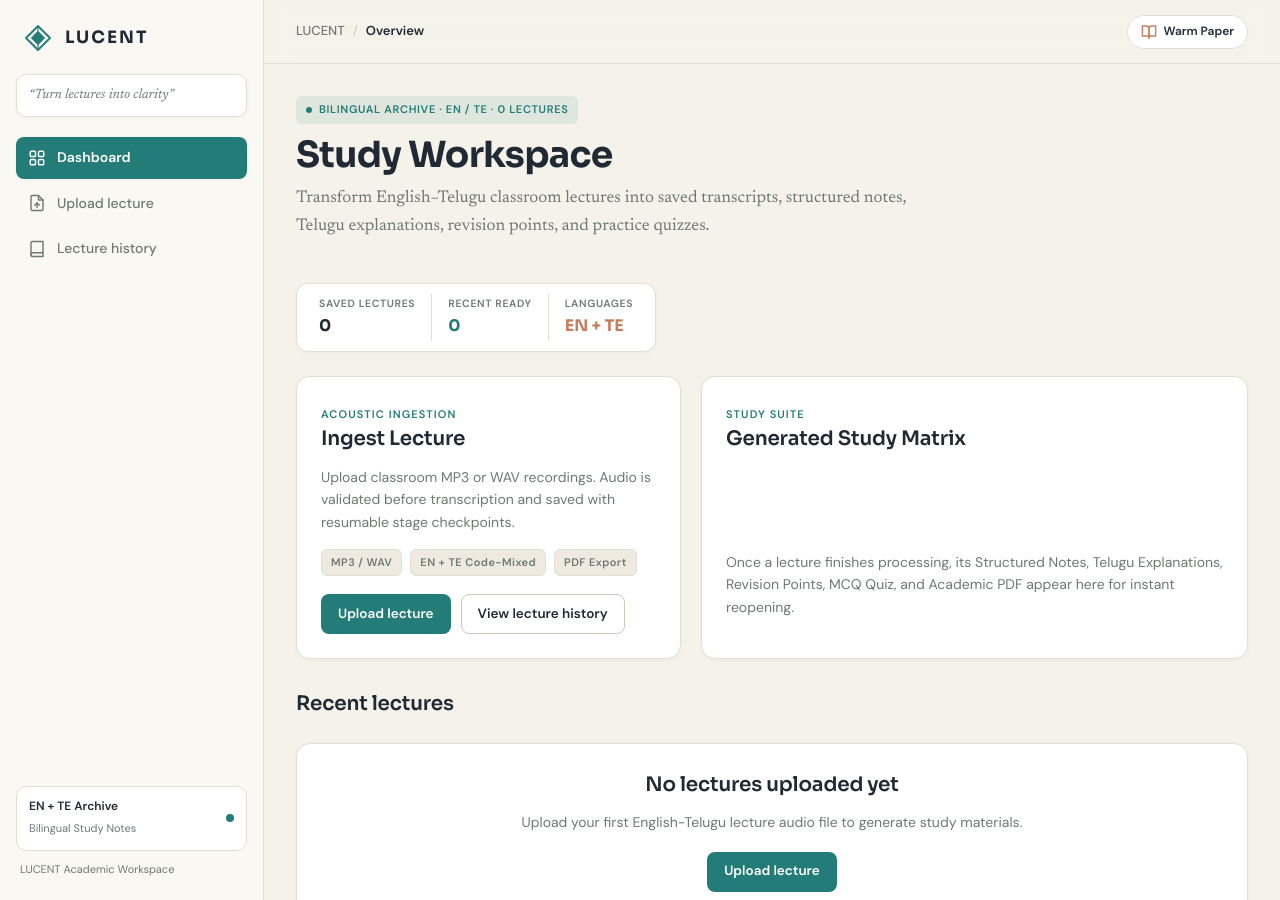
Test: lecture processing details and navigation › renders dashboard empty state and lecture history with pagination
The image size is (1280, 900).
Check: the heading "No lectures uploaded yet" is shown, box [645,772,899,797]
What coordinates should you click on to do the following:
click the link "Lecture history"
I would click on:
 (92, 249)
Its box is [28,239,157,258].
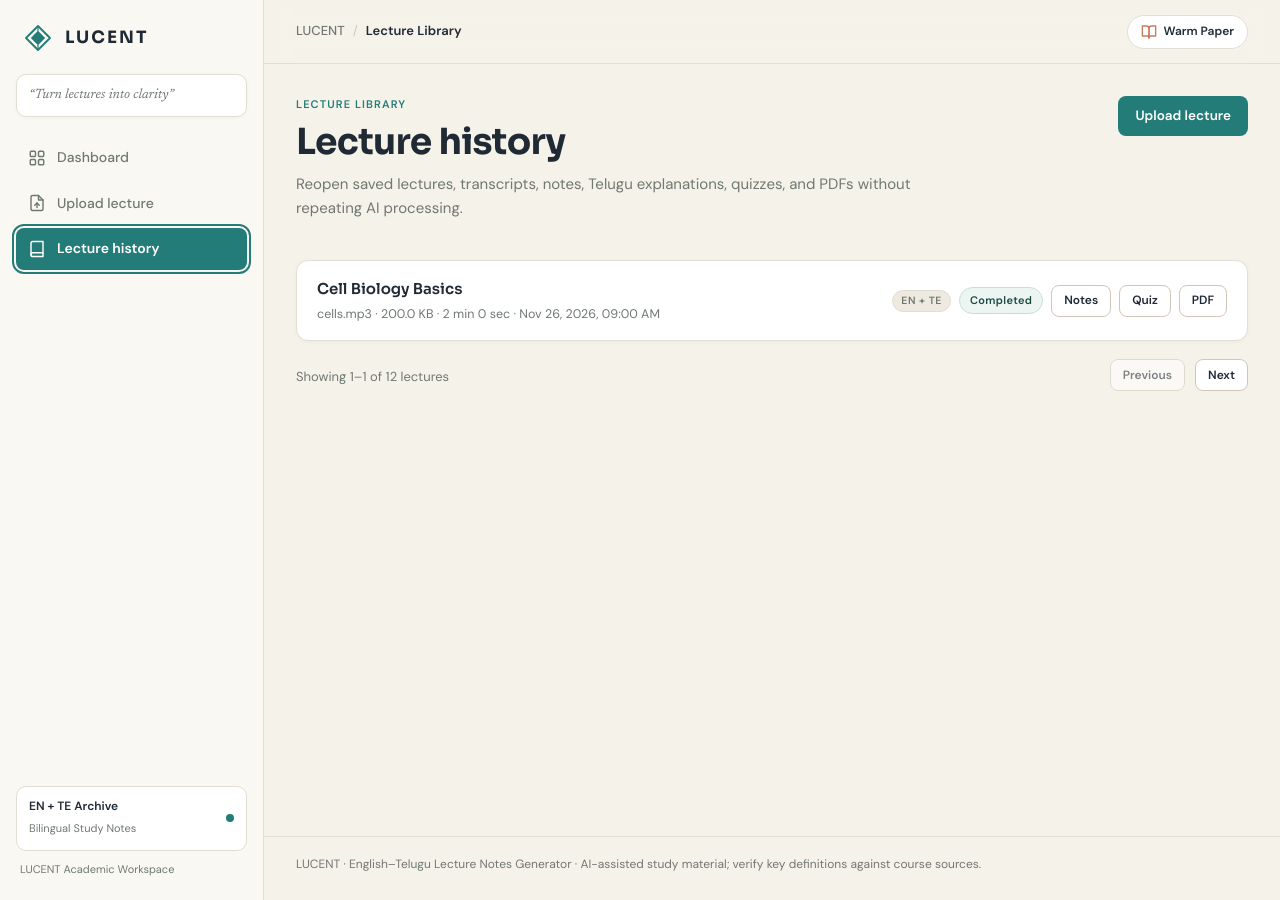
Check: the text "Cell Biology Basics" is shown, box [317,279,462,298]
Check: the text "Showing 1–1 of 12 lectures" is shown, box [296,367,449,387]
What coordinates should you click on to do the following:
click the button "Next"
I would click on:
 (1222, 375)
Its box is [1195,359,1248,391].
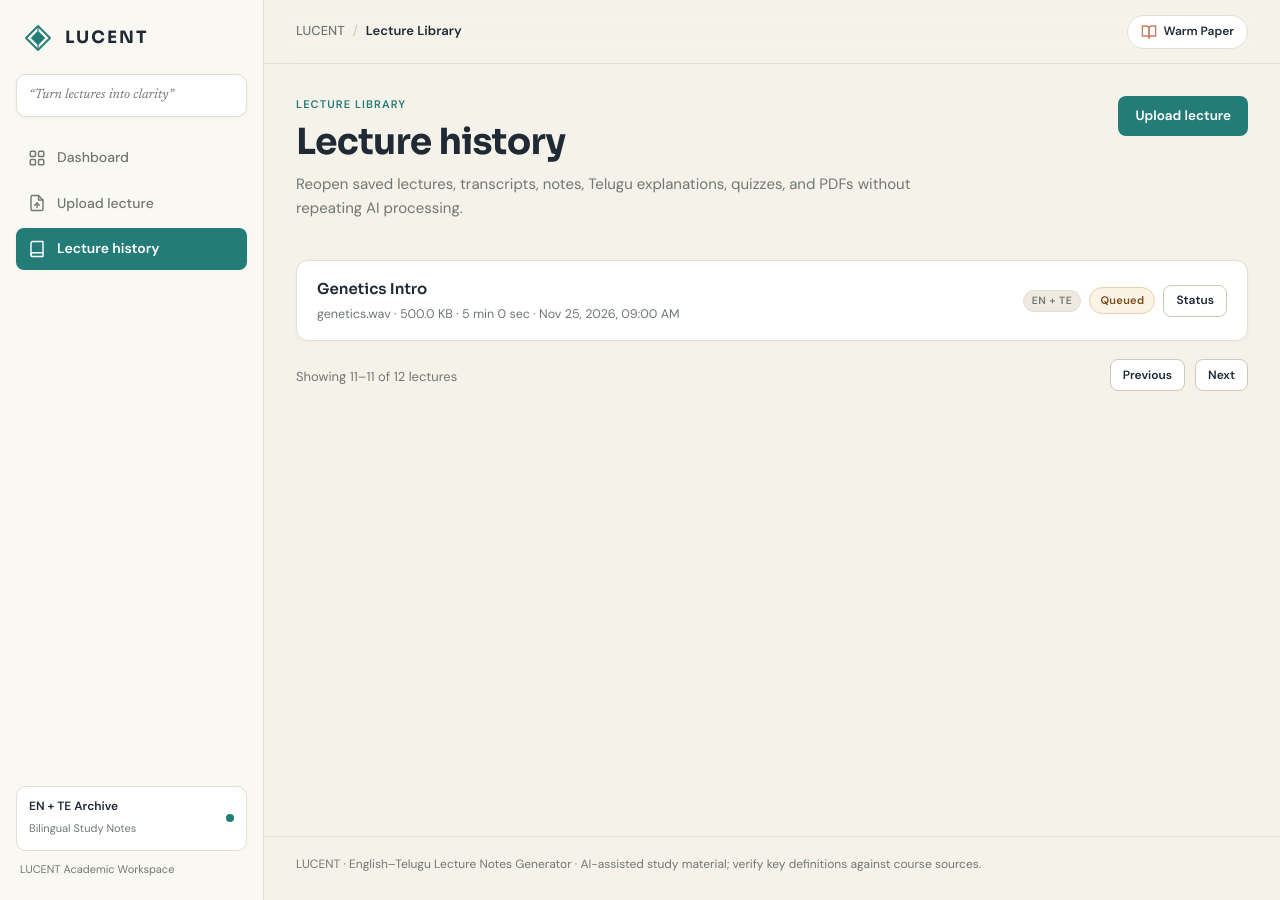
Check: the text "Genetics Intro" is shown, box [317,279,427,298]
